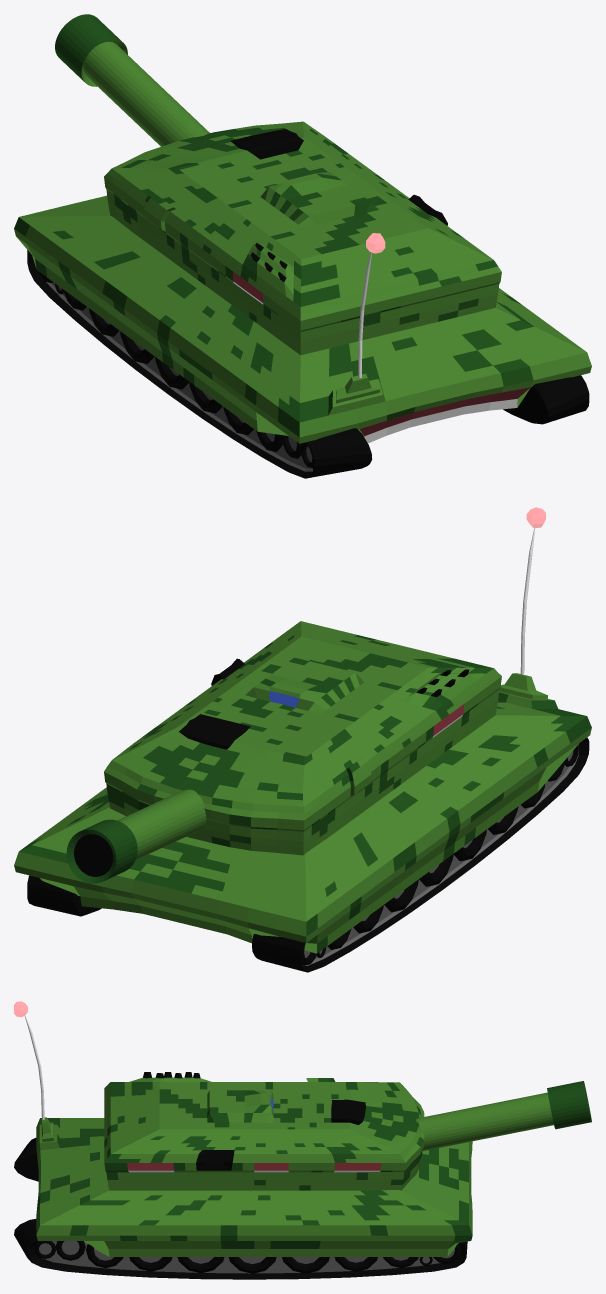
Rendered from tank.glb.
3 renders of one model, top to bottom at view 1: azimuth 30°, elevation 25°; view 2: azimuth 150°, elevation 25°; view 3: azimuth 270°, elevation 25°, orthographic. The views are drawn at different scales.
Visible parts, largest first — view 1: base; view 2: base; view 3: base.
Boxes of the visible parts, box(x1,y1,x2,y2) form: base: box(14, 14, 591, 478); base: box(14, 507, 591, 972); base: box(14, 1001, 591, 1279).
Bounding box in the file's own units: 2.03 × 1.71 × 4.56.
